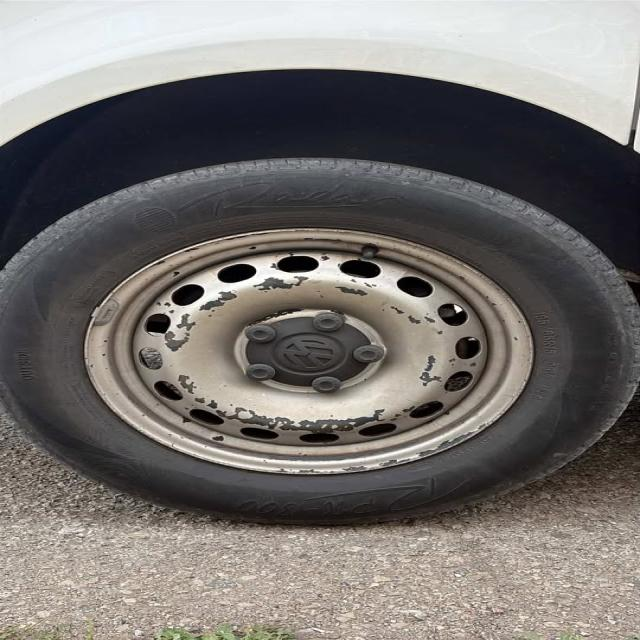jante: (83, 226, 541, 474)
parafuso: (229, 319, 286, 347), (304, 372, 349, 400), (308, 310, 352, 336), (233, 362, 279, 386), (353, 342, 391, 369)
roda: (0, 157, 640, 529)
